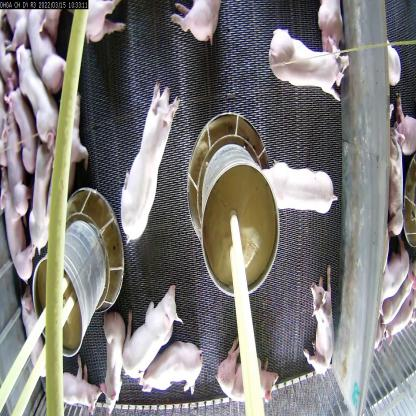Pig: (122, 88, 180, 233), (121, 287, 186, 386), (257, 157, 339, 234), (266, 33, 344, 105), (305, 262, 342, 382), (216, 339, 277, 403), (98, 306, 136, 408), (24, 0, 65, 88), (16, 46, 52, 136), (52, 356, 106, 416), (30, 128, 55, 248), (18, 287, 44, 373), (0, 174, 21, 272), (149, 342, 190, 389)
